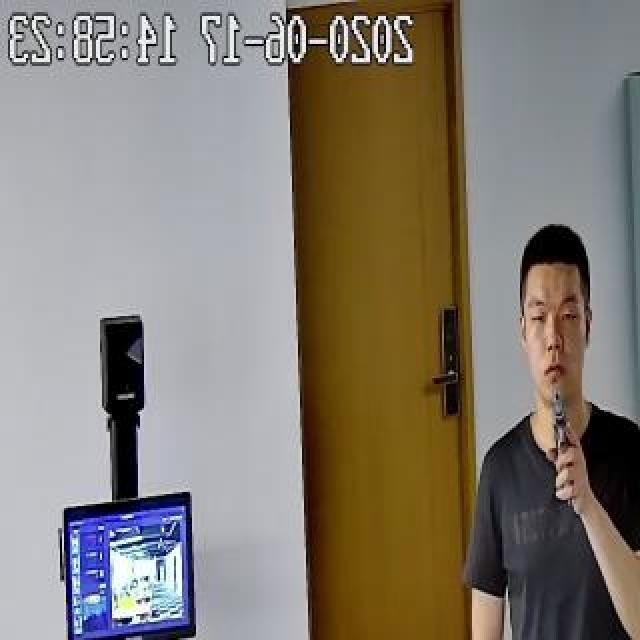Guns: (547, 382, 583, 484)
